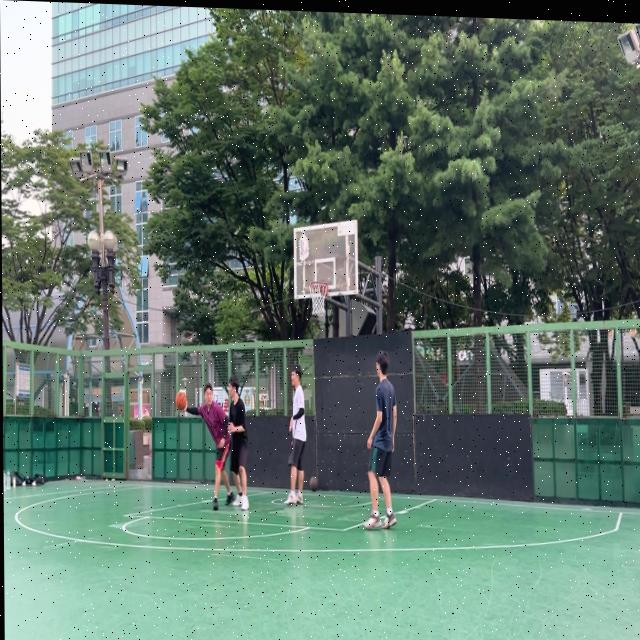basketball: (175, 391, 187, 411), (309, 475, 319, 492)
hoop: (309, 280, 329, 317)
